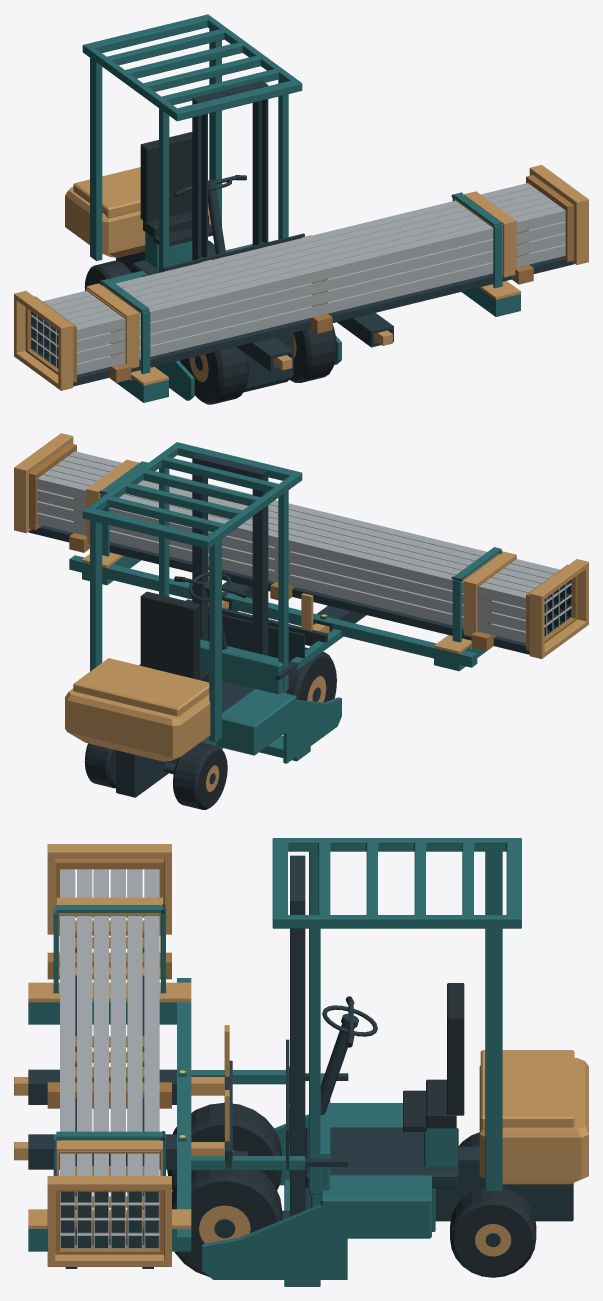
The model's file is forklift-loaded-long-bundle.glb.
3 renders of one model, top to bottom at view 1: azimuth 30°, elevation 25°; view 2: azimuth 150°, elevation 25°; view 3: azimuth 270°, elevation 25°, orthographic. The views are drawn at different scales.
Visible parts, largest first — view 1: forklift-loaded-long-bundle__batch_25, forklift-loaded-long-bundle__batch_01, forklift-loaded-long-bundle__batch_00, forklift-loaded-long-bundle__batch_26, forklift-loaded-long-bundle__batch_02, forklift-loaded-long-bundle__batch_27, forklift-loaded-long-bundle__batch_23, forklift-loaded-long-bundle__batch_24, forklift-loaded-long-bundle__batch_19, forklift-loaded-long-bundle__batch_32, forklift-loaded-long-bundle__batch_22, forklift-loaded-long-bundle__batch_30 (+4 smaller); view 2: forklift-loaded-long-bundle__batch_25, forklift-loaded-long-bundle__batch_01, forklift-loaded-long-bundle__batch_02, forklift-loaded-long-bundle__batch_00, forklift-loaded-long-bundle__batch_26, forklift-loaded-long-bundle__batch_30, forklift-loaded-long-bundle__batch_23, forklift-loaded-long-bundle__batch_27, forklift-loaded-long-bundle__batch_24, forklift-loaded-long-bundle__batch_11, forklift-loaded-long-bundle__batch_03, forklift-loaded-long-bundle__batch_19 (+8 smaller); view 3: forklift-loaded-long-bundle__batch_01, forklift-loaded-long-bundle__batch_25, forklift-loaded-long-bundle__batch_00, forklift-loaded-long-bundle__batch_02, forklift-loaded-long-bundle__batch_26, forklift-loaded-long-bundle__batch_24, forklift-loaded-long-bundle__batch_14, forklift-loaded-long-bundle__batch_30, forklift-loaded-long-bundle__batch_22, forklift-loaded-long-bundle__batch_23, forklift-loaded-long-bundle__batch_19, forklift-loaded-long-bundle__batch_32 (+12 smaller).
Part boxes in pixels (box(x1,y1,x2,y2)): forklift-loaded-long-bundle__batch_25: box(31, 183, 565, 374); forklift-loaded-long-bundle__batch_01: box(82, 14, 341, 400); forklift-loaded-long-bundle__batch_00: box(116, 81, 293, 392); forklift-loaded-long-bundle__batch_26: box(14, 165, 588, 390); forklift-loaded-long-bundle__batch_02: box(65, 167, 211, 257); forklift-loaded-long-bundle__batch_27: box(73, 257, 574, 386); forklift-loaded-long-bundle__batch_23: box(140, 132, 212, 245); forklift-loaded-long-bundle__batch_24: box(25, 175, 573, 382); forklift-loaded-long-bundle__batch_19: box(180, 347, 248, 404); forklift-loaded-long-bundle__batch_32: box(236, 313, 393, 371); forklift-loaded-long-bundle__batch_22: box(289, 324, 336, 382); forklift-loaded-long-bundle__batch_30: box(110, 287, 520, 402); forklift-loaded-long-bundle__batch_25: box(37, 451, 571, 642); forklift-loaded-long-bundle__batch_01: box(82, 442, 341, 763); forklift-loaded-long-bundle__batch_02: box(65, 658, 210, 761); forklift-loaded-long-bundle__batch_00: box(116, 453, 268, 797); forklift-loaded-long-bundle__batch_26: box(14, 433, 588, 658); forklift-loaded-long-bundle__batch_30: box(69, 555, 493, 671); forklift-loaded-long-bundle__batch_23: box(140, 591, 209, 682); forklift-loaded-long-bundle__batch_27: box(28, 525, 529, 654); forklift-loaded-long-bundle__batch_24: box(29, 443, 577, 650); forklift-loaded-long-bundle__batch_11: box(173, 742, 227, 809); forklift-loaded-long-bundle__batch_03: box(208, 611, 304, 661); forklift-loaded-long-bundle__batch_19: box(285, 647, 336, 702); forklift-loaded-long-bundle__batch_01: box(202, 838, 521, 1286); forklift-loaded-long-bundle__batch_25: box(60, 869, 159, 1248); forklift-loaded-long-bundle__batch_00: box(232, 855, 573, 1221); forklift-loaded-long-bundle__batch_02: box(479, 1050, 588, 1184); forklift-loaded-long-bundle__batch_26: box(47, 844, 171, 1266); forklift-loaded-long-bundle__batch_24: box(47, 858, 171, 1254); forklift-loaded-long-bundle__batch_14: box(450, 1187, 536, 1277); forklift-loaded-long-bundle__batch_30: box(28, 978, 191, 1251); forklift-loaded-long-bundle__batch_22: box(172, 1170, 282, 1276); forklift-loaded-long-bundle__batch_23: box(403, 983, 464, 1131); forklift-loaded-long-bundle__batch_19: box(167, 1102, 282, 1190); forklift-loaded-long-bundle__batch_32: box(28, 1069, 176, 1169).
Size of the model in its own units: 4.2 by 2.1 by 3.
